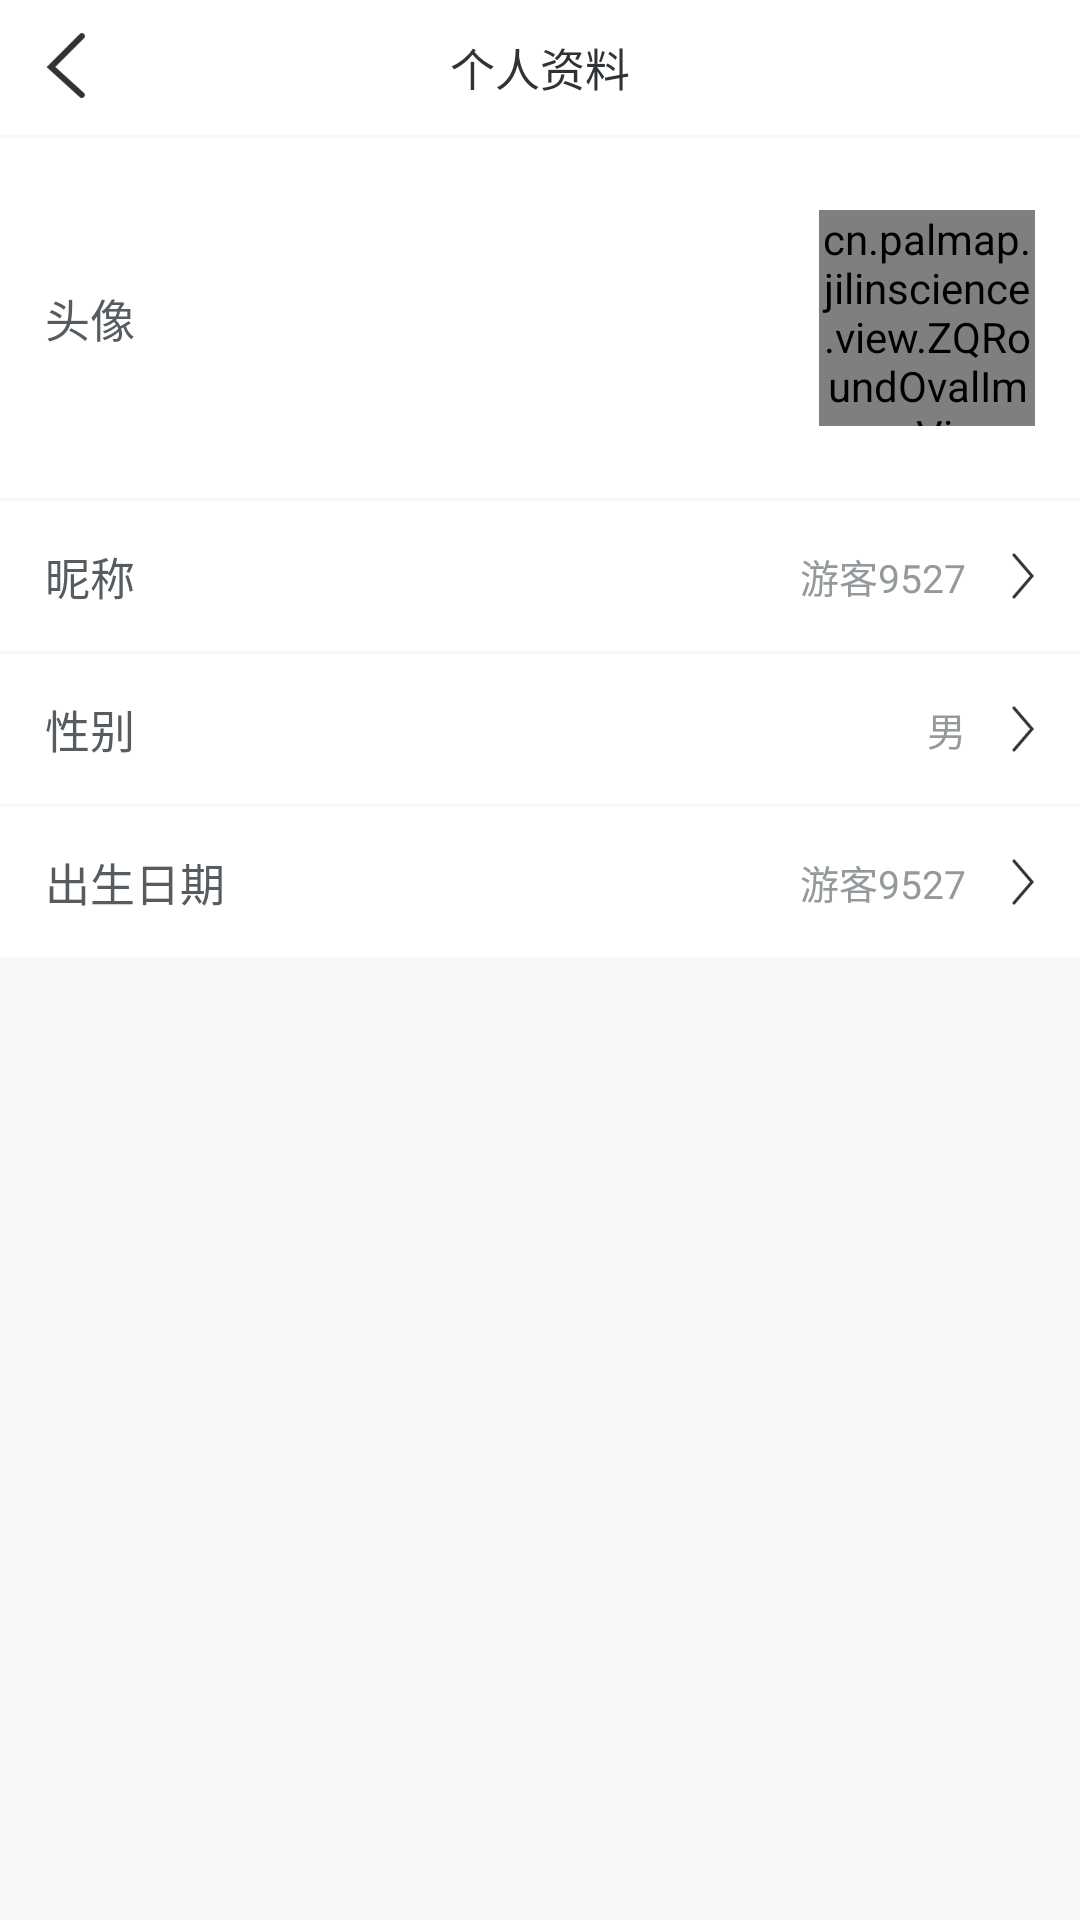

Where to tap for icons on this 1080×1920 app screen, as (x,y):
arrow: (1023,576), (1023,729), (1023,882)
back: (65,65)
